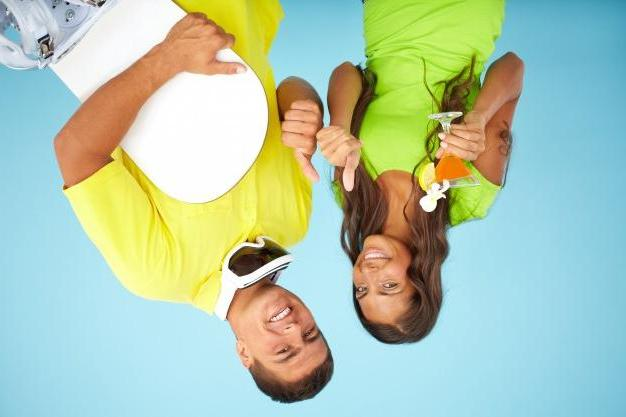thumbsdown: (282, 100, 321, 182), (316, 126, 364, 192)
